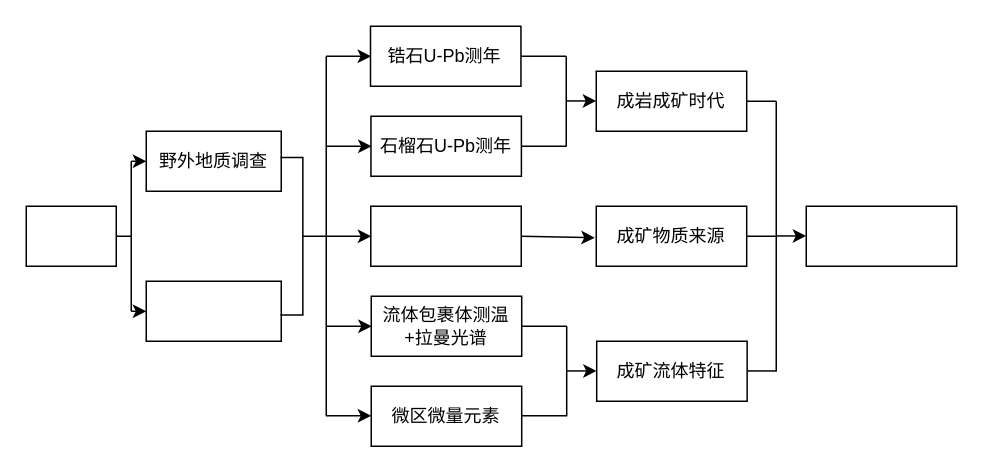
The diagram is 984 pixels wide and 473 high, and some of its shapes have lost their labels. The shapes that lost their labels are listed below. From the top down, each one's centre as x and y in pixels, then its label:
At point 70,235: "研究内容".
At point 445,235: "原位微区硫同位素".
At point 881,235: "矿床成因".
At point 213,310: "室内综合研究".
